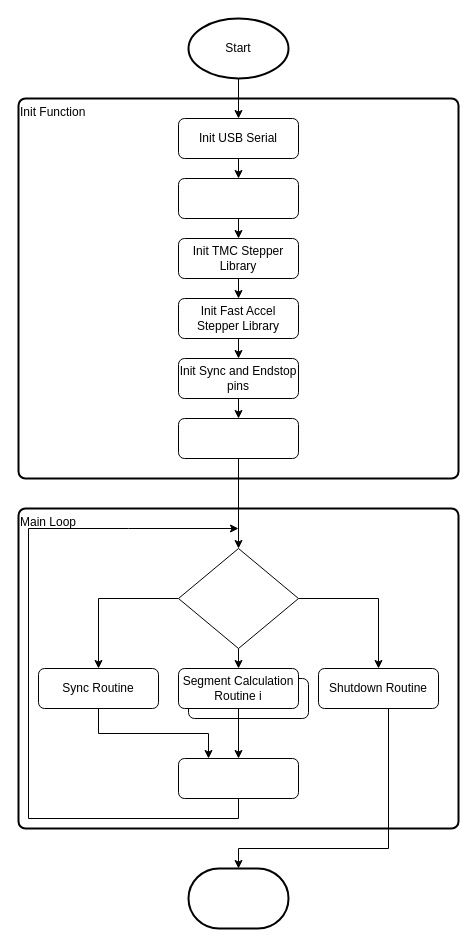
Some shapes in this 476 by 946 pixel diagram are drawn without their labels. Here are the shapes that lost their labels. From the top down, the centre of each, then its label:
(238,198): Init Serial 2
(238,438): Init MMA Stepper Control
(238,598): Read Serial Command and Switch
(238,778): Idle Function
(238,898): End
